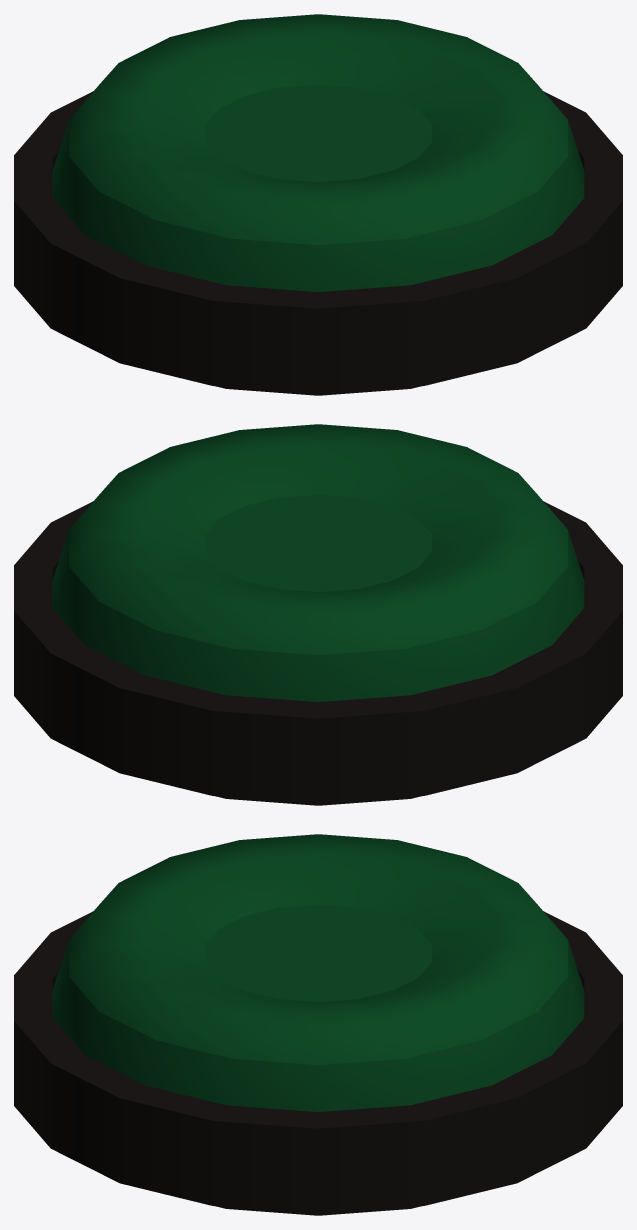
The model's file is action_bouton3_01.FBX.
3 renders of one model, top to bottom at view 1: azimuth 30°, elevation 25°; view 2: azimuth 150°, elevation 25°; view 3: azimuth 270°, elevation 25°, orthographic.
Parts seen in each view (by area): view 1: Object004, Cylinder021; view 2: Object004, Cylinder021; view 3: Object004, Cylinder021.
Boxes of the visible parts, x1,y1,x2,y2 form: Object004: (52, 14, 584, 291); Cylinder021: (14, 91, 622, 395); Object004: (52, 424, 584, 701); Cylinder021: (14, 501, 622, 805); Object004: (52, 834, 584, 1111); Cylinder021: (14, 911, 622, 1215).
Bounding box in the file's own units: 12.27 × 3.72 × 12.09.
